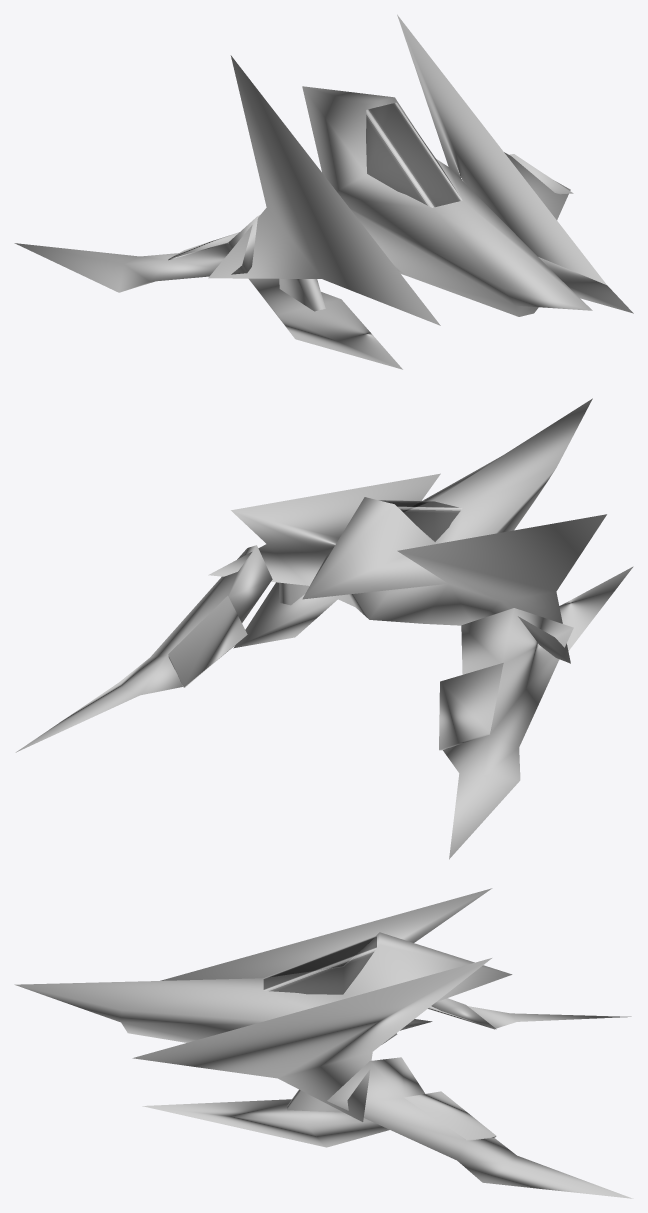
File: arwingNew35.obj
The picture shows the model from 3 angles, top to bottom: view 1: azimuth 30°, elevation 25°; view 2: azimuth 150°, elevation 25°; view 3: azimuth 270°, elevation 25°; orthographic projection. The views are drawn at different scales.
Visible parts, largest first — view 1: Arwing.002; view 2: Arwing.002; view 3: Arwing.002.
Part boxes in pixels (box(x1,y1,x2,y2)): Arwing.002: box(14, 14, 633, 369); Arwing.002: box(15, 398, 633, 859); Arwing.002: box(14, 888, 633, 1198).
Size of the model in its own units: 4.53 by 2.15 by 6.52.
